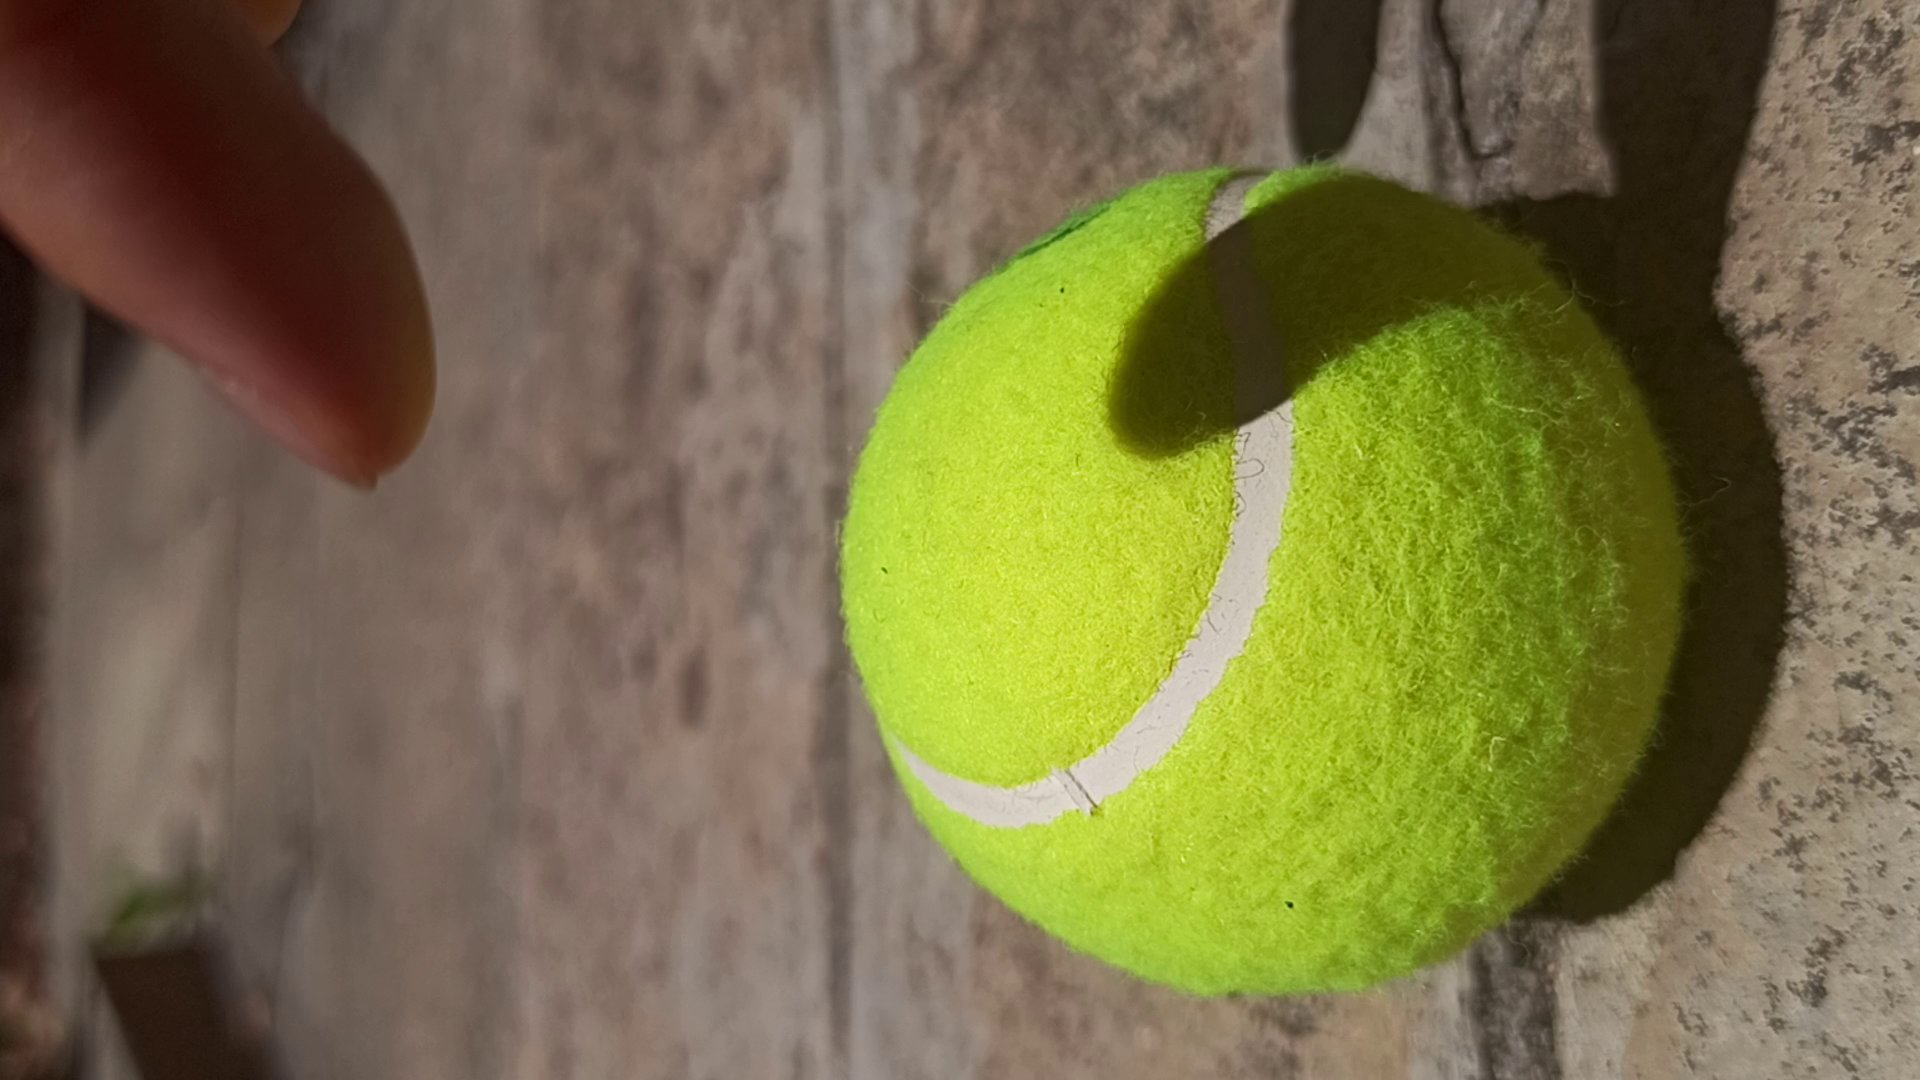Tennis-Ball: (837, 168, 1686, 995)
